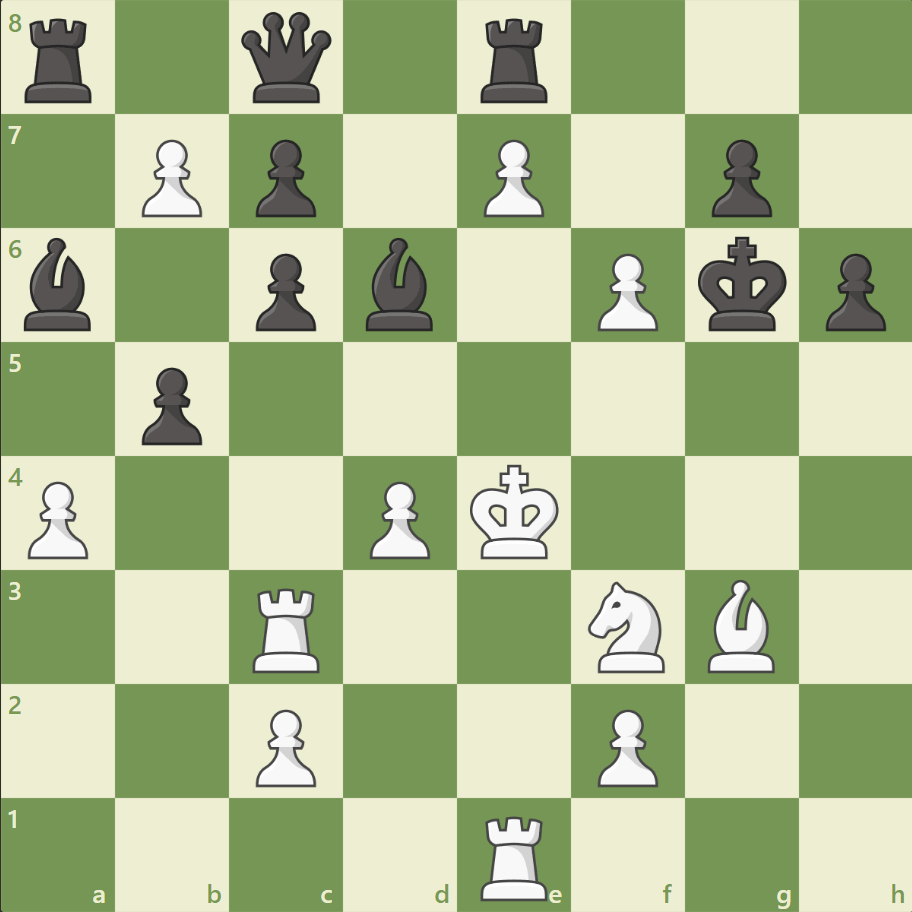B: (698, 574, 782, 676)
K: (465, 458, 565, 566)
N: (579, 575, 676, 677)
P: (133, 132, 208, 223), (474, 132, 549, 223), (20, 473, 95, 564), (247, 700, 322, 791), (588, 246, 662, 337), (361, 473, 435, 564), (588, 700, 662, 791)
R: (473, 806, 556, 904), (246, 579, 329, 676)
b: (17, 233, 101, 336), (358, 233, 442, 336)
k: (692, 231, 792, 339)
p: (247, 132, 322, 223), (701, 132, 776, 223), (247, 246, 322, 337), (133, 359, 208, 450), (815, 246, 889, 337)
q: (237, 9, 336, 108)
r: (19, 12, 102, 109), (473, 12, 556, 109)
